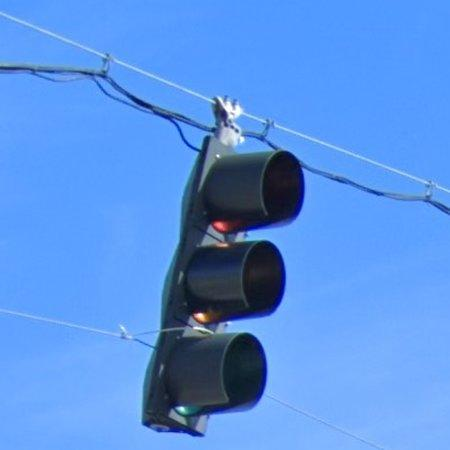traffic lights: (138, 122, 305, 436)
